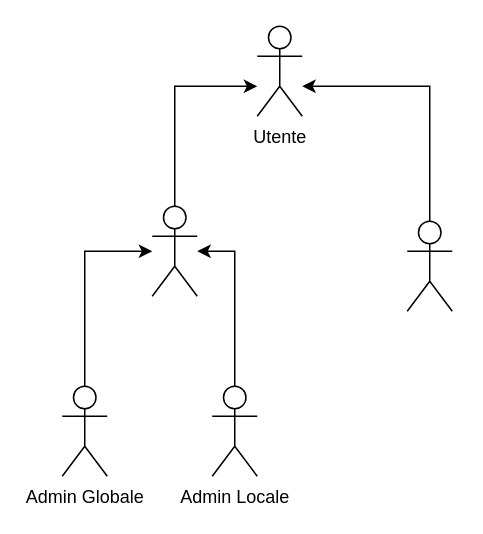
Some shapes in this 483 by 534 pixel diagram are drawn without their labels. Here are the shapes that lost their labels. From the top down, the centre of each, then its label:
the point at 174,250: Admin
the point at 429,265: Cliente
